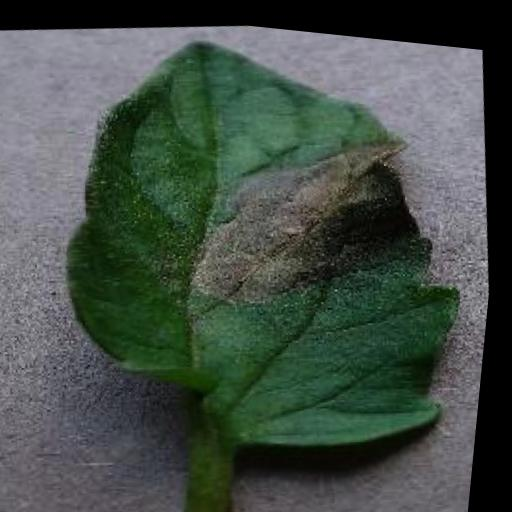Late Blight: (28, 5, 500, 483)
